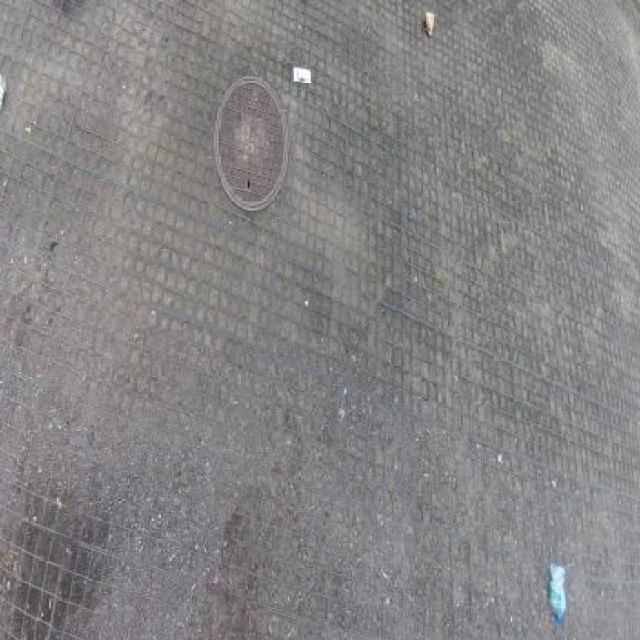Garbage: (549, 563, 566, 624), (293, 68, 311, 85), (0, 75, 7, 117), (423, 12, 434, 37)
